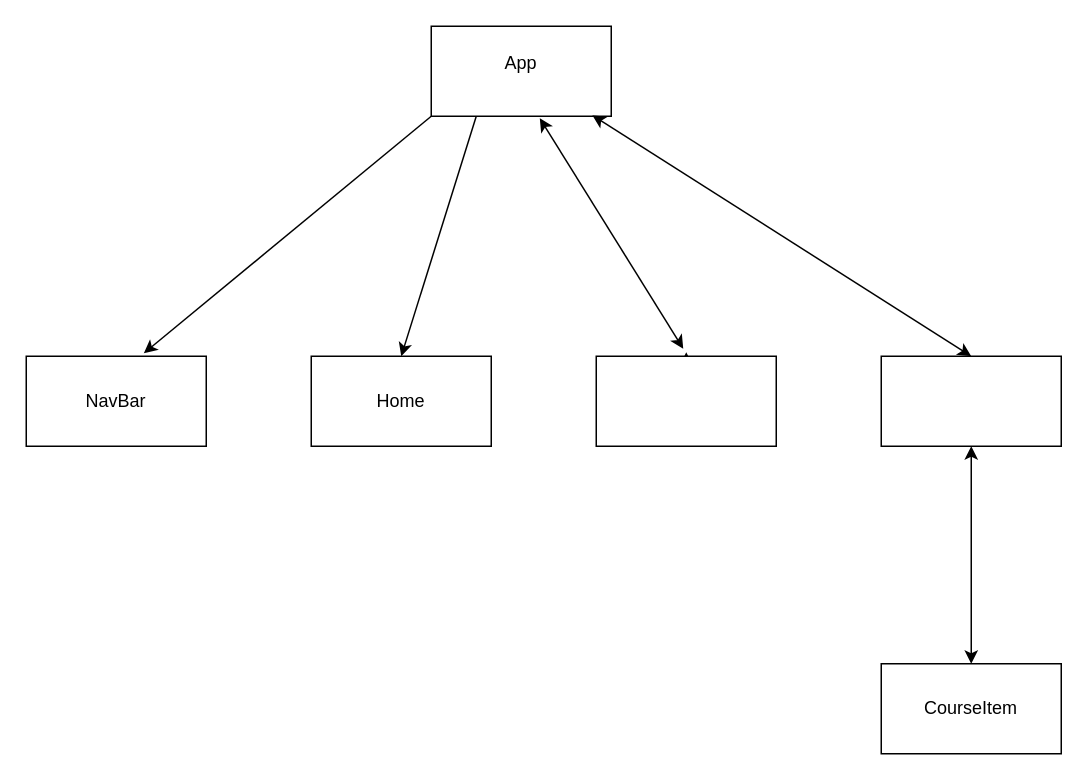
This 1088x780 diagram has some shape labels left out. The centre of each missing label's shape, as x and y in pixels:
CourseForm: the point at 685,400
CourseList: the point at 970,400
